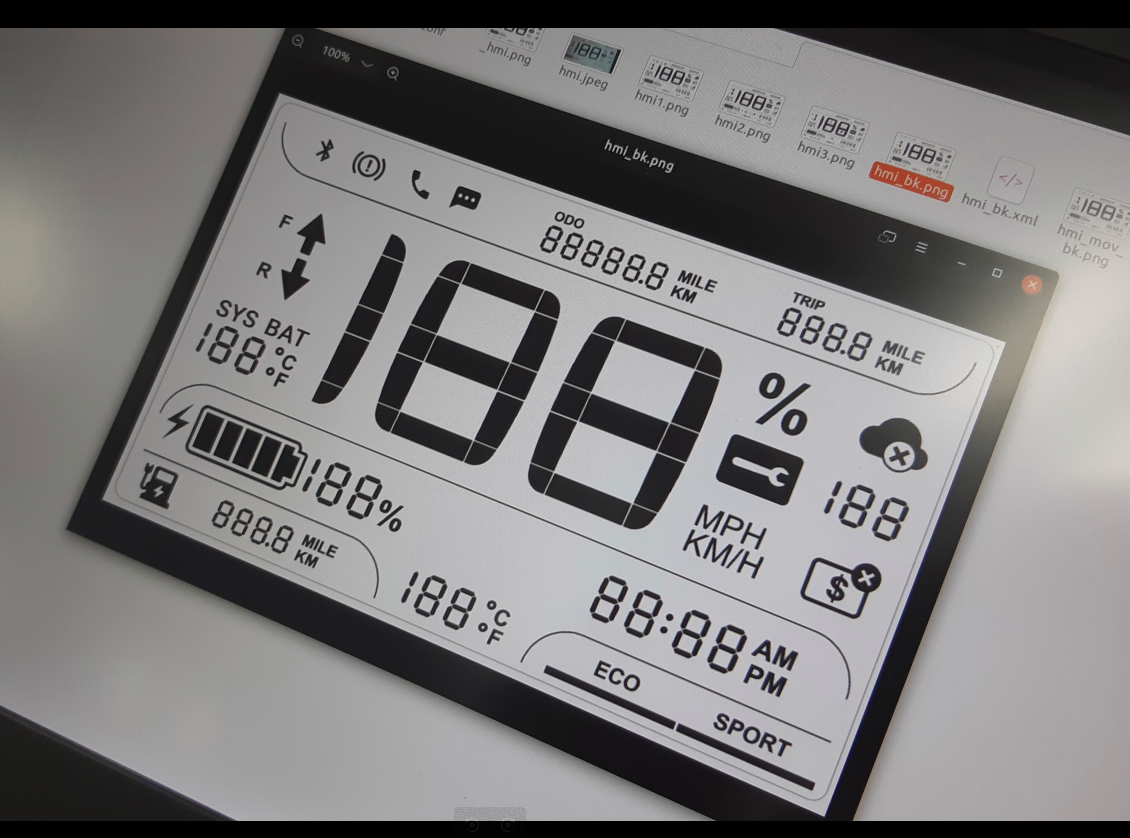bluetooth_on: (308, 132, 342, 166)
braking_on: (347, 146, 391, 190)
calling_on: (403, 164, 442, 203)
connection_lost: (855, 402, 931, 478)
error_code: (717, 426, 806, 515)
low_battery: (131, 457, 187, 513)
sms_on: (445, 180, 484, 219)
vin_id: (798, 537, 887, 626)
